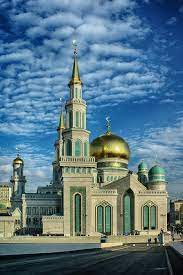Mosque: (10, 43, 170, 246)
